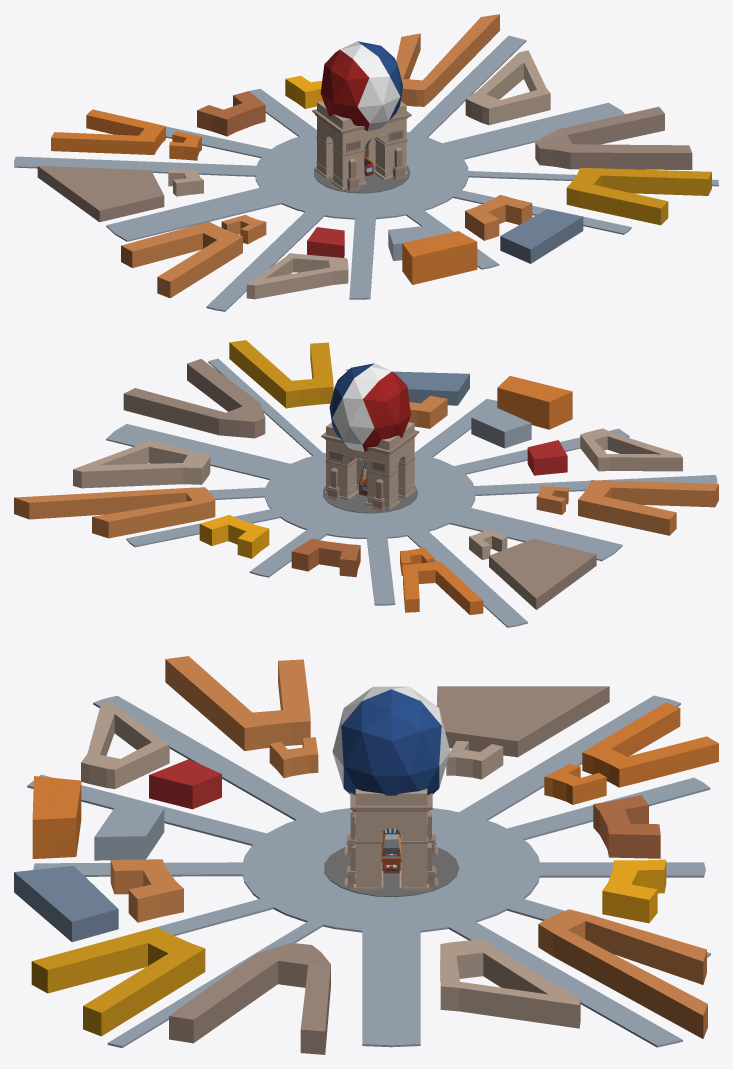
File: multipla.fbx
The picture shows the model from 3 angles, top to bottom: view 1: azimuth 30°, elevation 25°; view 2: azimuth 150°, elevation 25°; view 3: azimuth 270°, elevation 25°; orthographic projection. The views are drawn at different scales.
Visible parts, largest first — view 1: Cube.002, Cylinder, Cube.018, Cube, Cylinder.001; view 2: Cube.002, Cylinder, Cube.018, Cube, Cylinder.001; view 3: Cube.002, Cylinder, Cube.018, Cube, Cylinder.001.
Part boxes in pixels (left/top/right/bottom): Cube.002: left=37, top=14, right=711, bottom=299; Cylinder: left=14, top=35, right=718, bottom=311; Cube.018: left=320, top=41, right=402, bottom=175; Cube: left=312, top=101, right=411, bottom=191; Cylinder.001: left=314, top=166, right=410, bottom=193; Cube.002: left=14, top=340, right=718, bottom=614; Cylinder: left=106, top=358, right=717, bottom=627; Cube.018: left=329, top=363, right=410, bottom=496; Cube: left=321, top=422, right=419, bottom=511; Cylinder.001: left=323, top=486, right=417, bottom=513; Cube.002: left=14, top=656, right=718, bottom=1054; Cylinder: left=27, top=695, right=710, bottom=1047; Cube.018: left=332, top=686, right=450, bottom=873; Cube: left=344, top=788, right=438, bottom=890; Cylinder.001: left=324, top=839, right=459, bottom=897.
Bounding box in the file's own units: 6866 × 1601 × 5445.
1 material, 1 textured.
